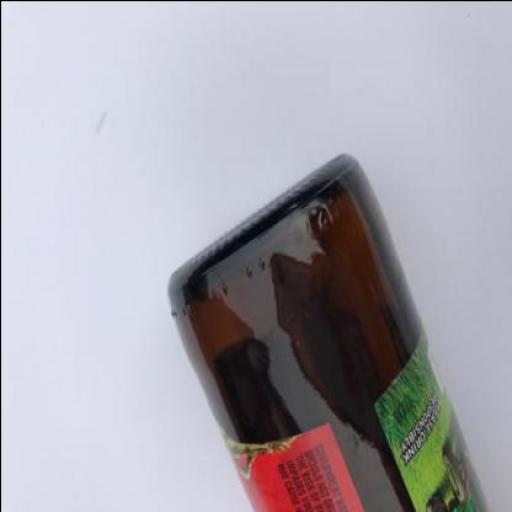glass: (167, 154, 490, 511)
